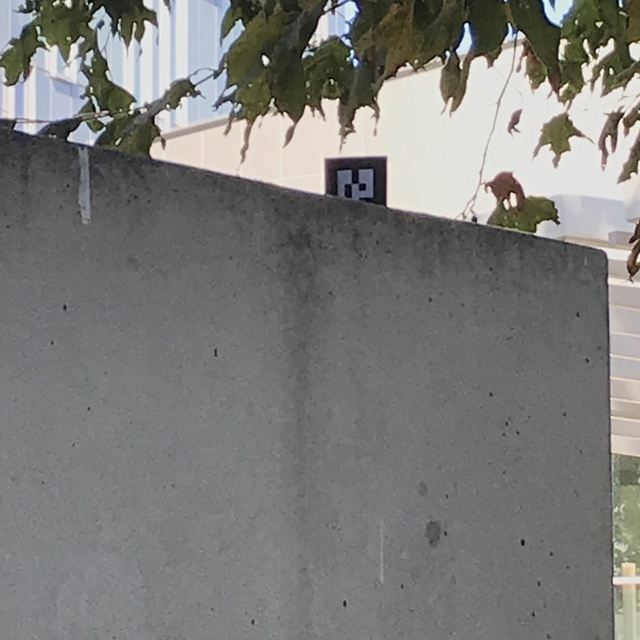ARTag: (323, 155, 388, 214)
